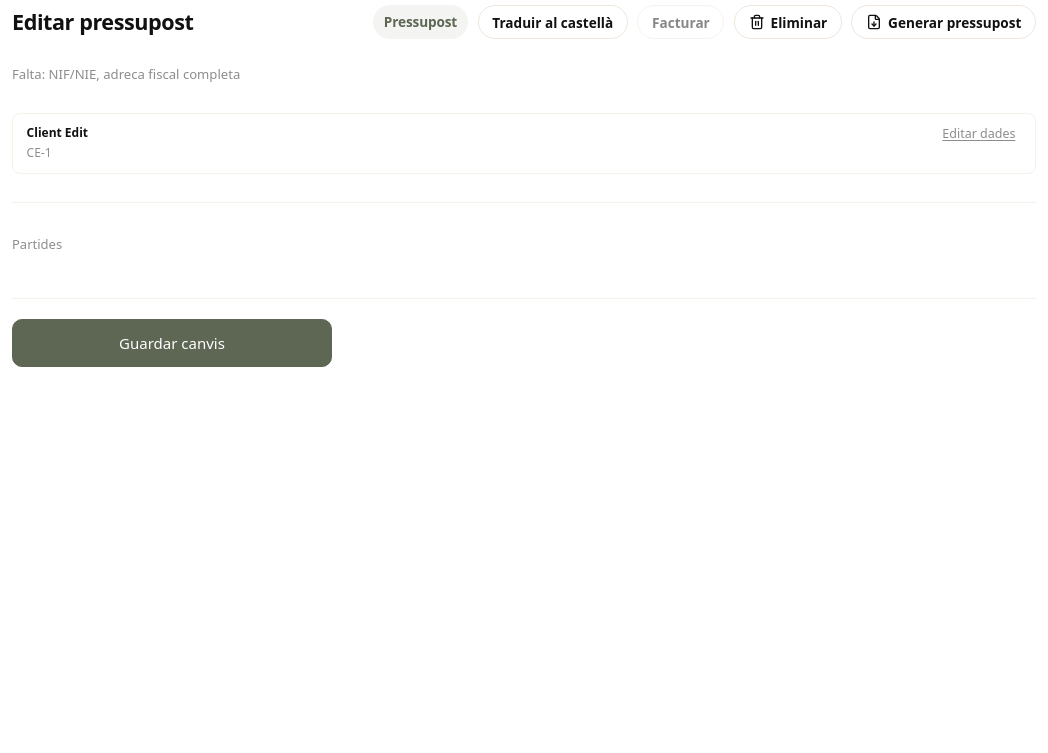
Test: Create budget › mirrors job address in edit mode when fiscal address is empty
Click the button "Editar dades" at coordinates (982, 138), box [942,124,1021,152]
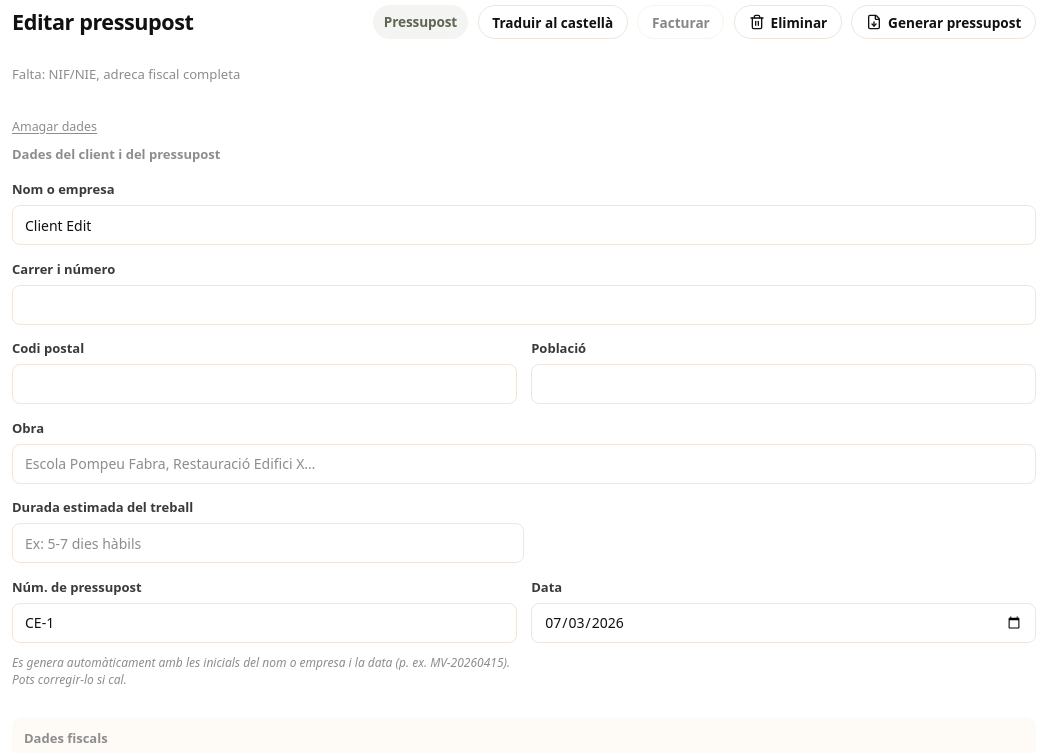
Type "Obra 77" into the field labelled "Carrer i número" at coordinates (524, 305), box [12,285,1036,325]
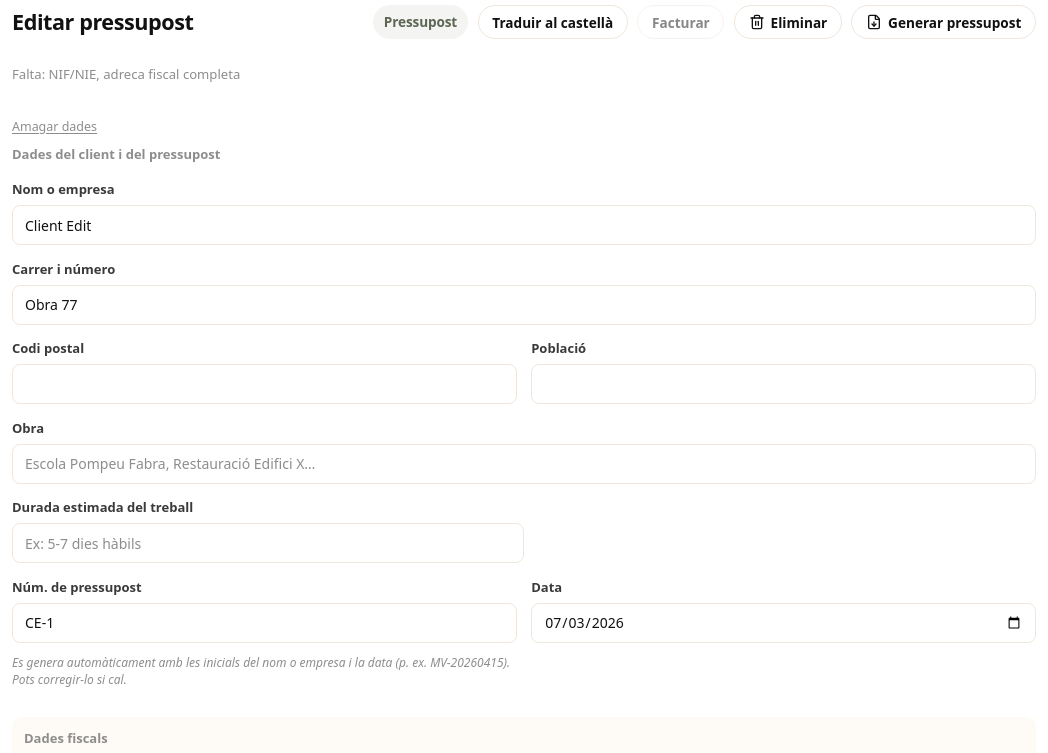
Type "08007" into the field labelled "Codi postal" at coordinates (264, 384), box [12,364,517,404]
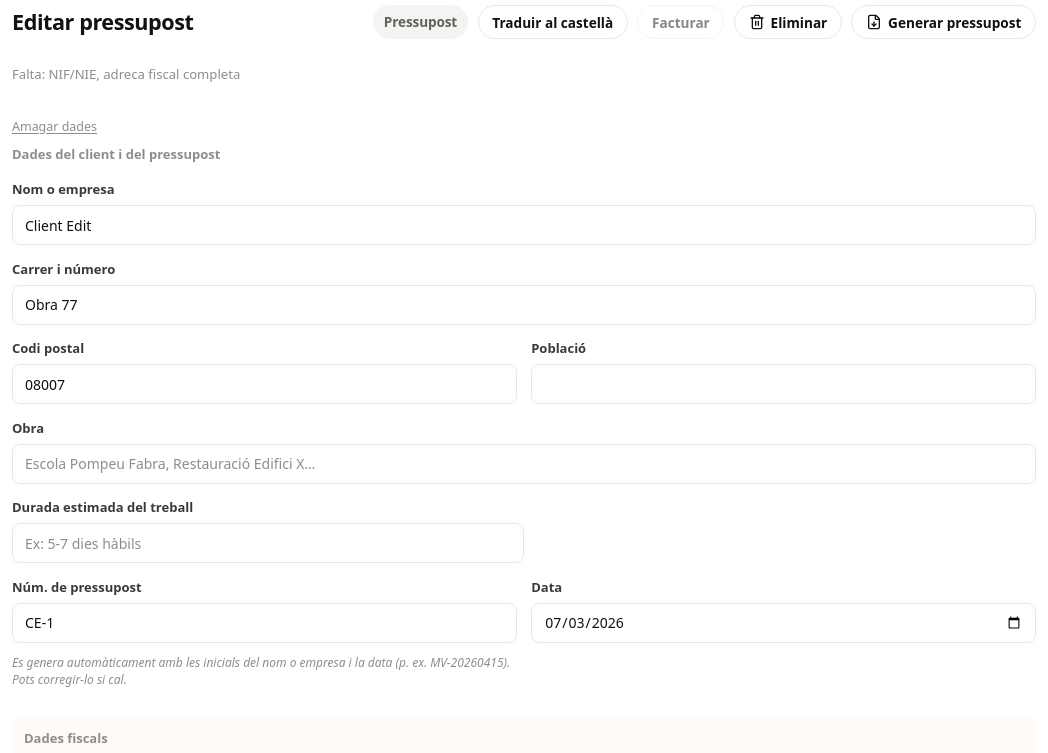
Type "Barcelona" into the field labelled "Població" at coordinates (784, 384), box [531,364,1036,404]
(page scrolled)
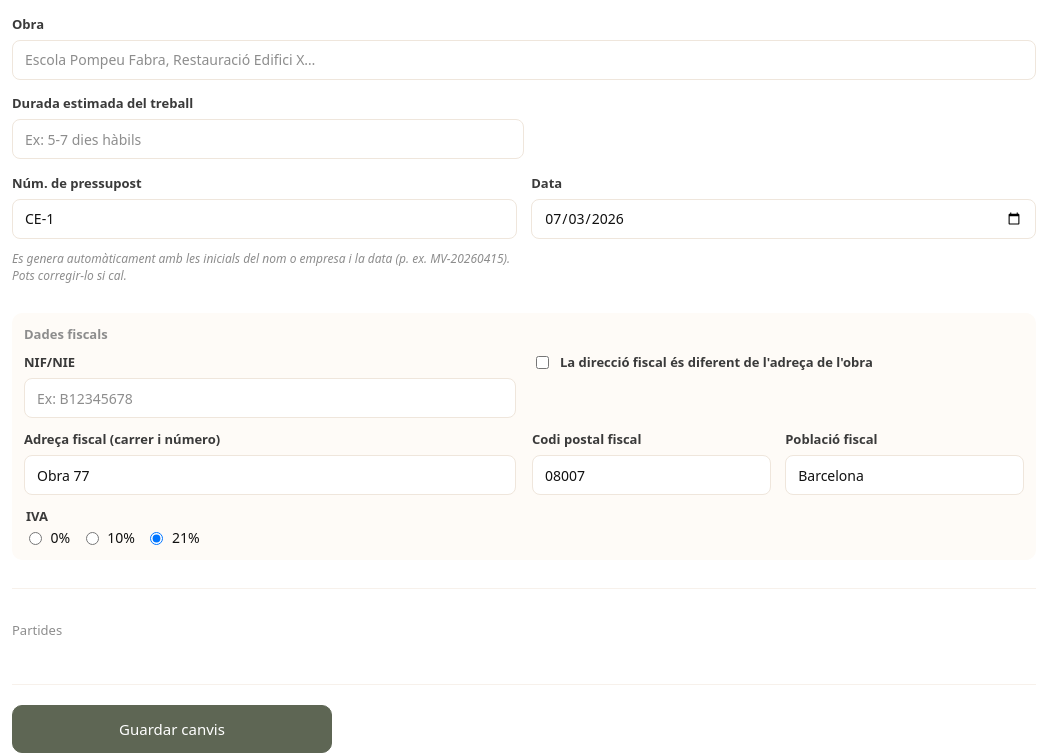
Expected: the field labelled "Adreça fiscal (carrer i número)" holds "Obra 77", [24,455,516,495]
Expected: the field labelled "Codi postal fiscal" holds "08007", [532,455,771,495]
Expected: the field labelled "Població fiscal" holds "Barcelona", [785,455,1024,495]
